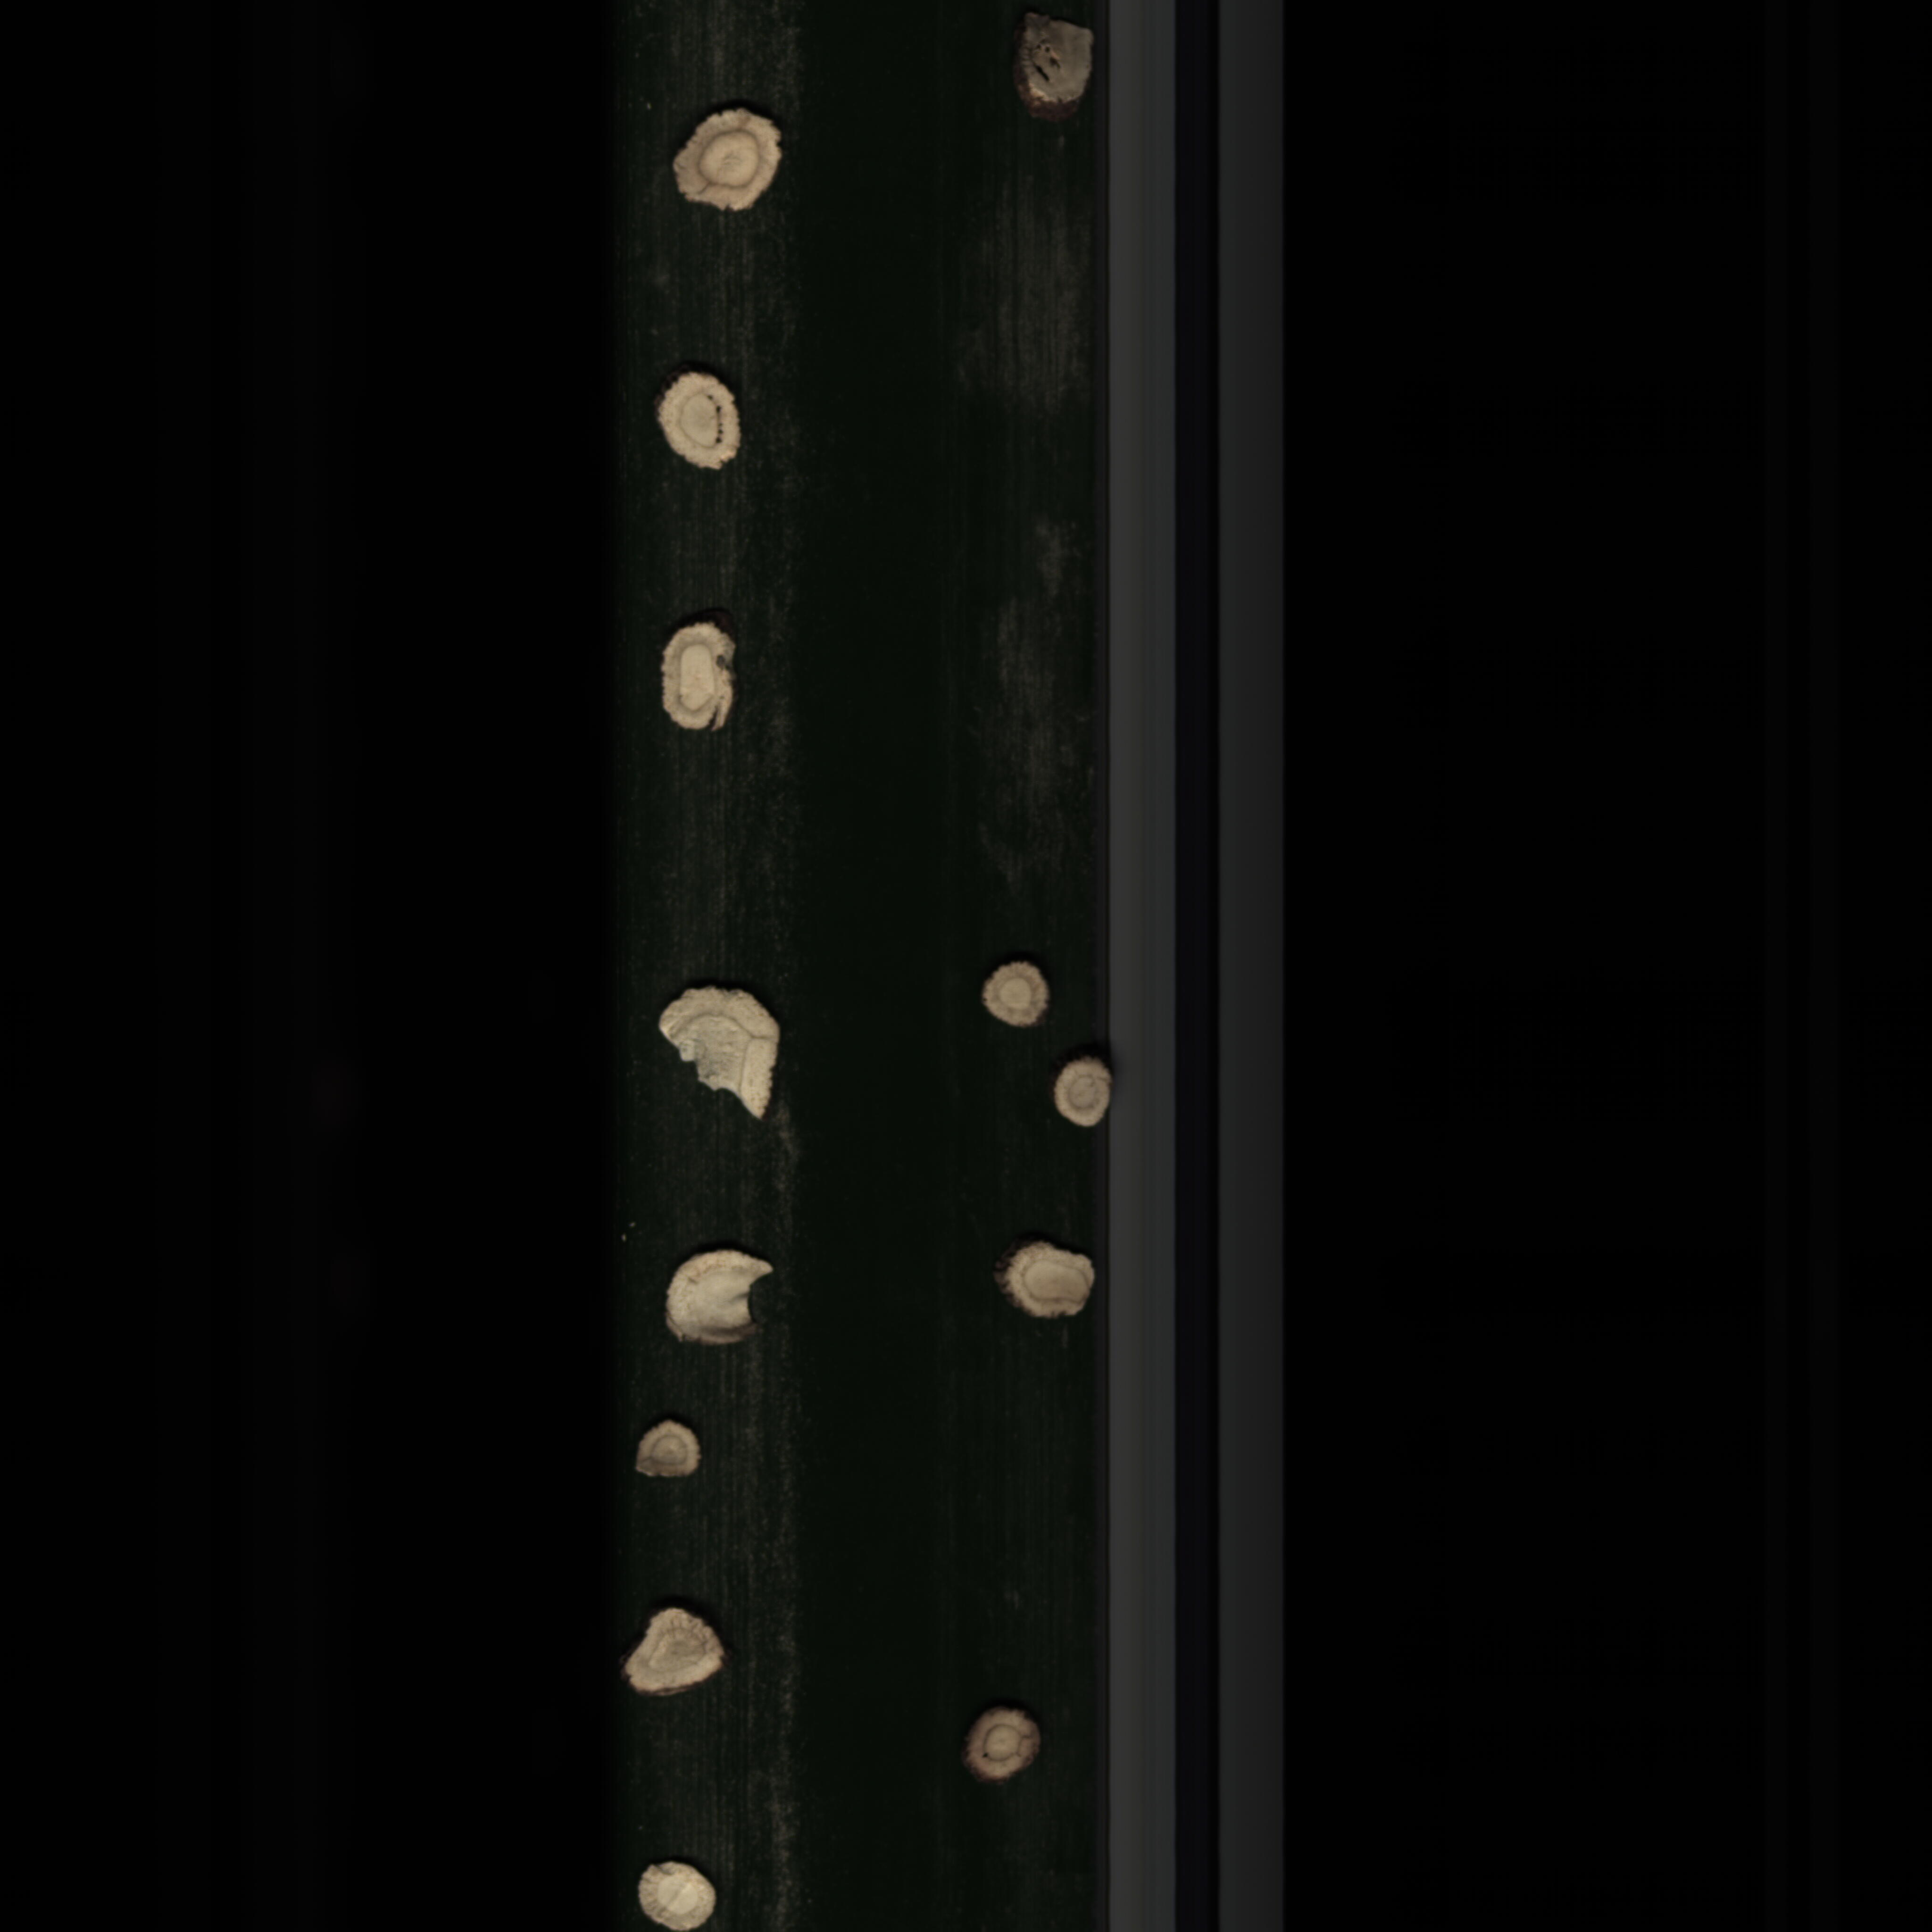debris: (655, 984, 798, 1127), (655, 1246, 784, 1352), (630, 1410, 709, 1493)
moldy: (665, 108, 793, 223), (1014, 16, 1092, 129), (954, 1695, 1044, 1790)
